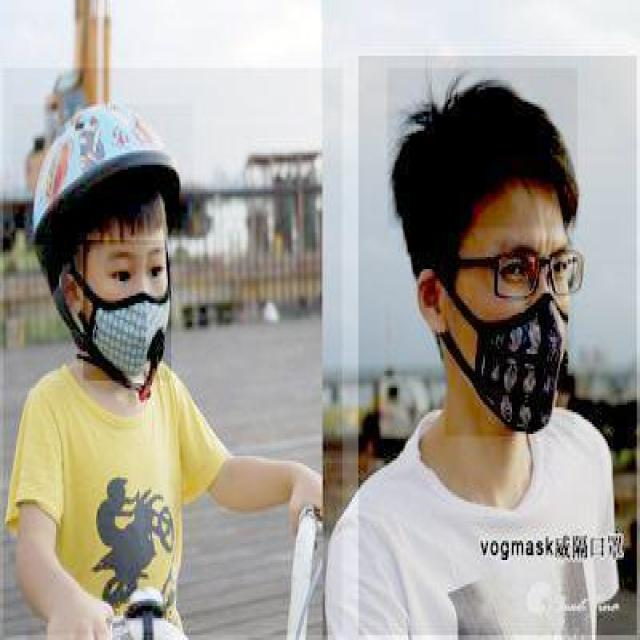face_mask: (445, 228, 574, 436), (83, 240, 171, 381)
glasses: (488, 240, 581, 303)
head_helmet: (13, 105, 195, 248)
head_nohelmet: (387, 68, 579, 230)
person: (3, 68, 344, 637), (358, 55, 638, 638)
